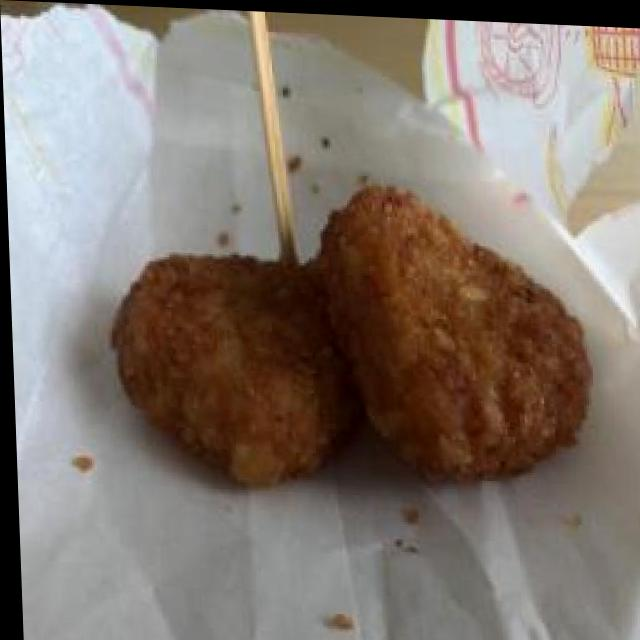triangle_hash_brown: (105, 170, 592, 495)
